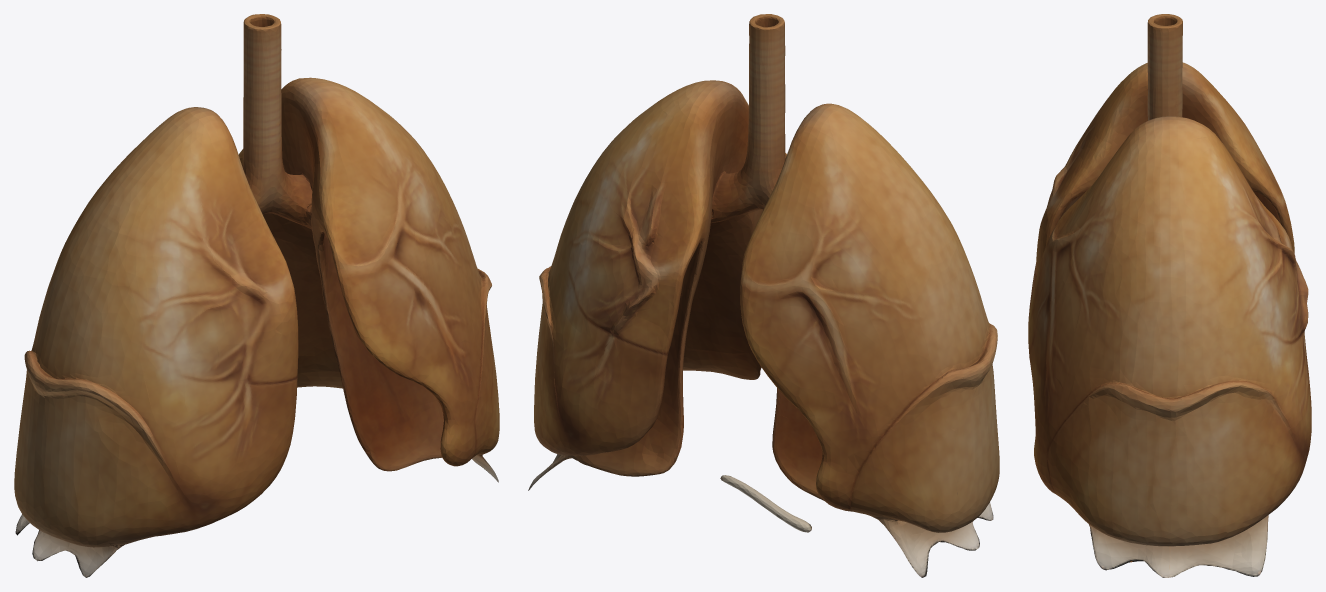
Rendered from lungs.glb.
3 renders of one model, left to right at view 1: azimuth 30°, elevation 25°; view 2: azimuth 150°, elevation 25°; view 3: azimuth 270°, elevation 25°, orthographic. The views are drawn at different scales.
Parts seen in each view (by area): view 1: world; view 2: world; view 3: world.
Boxes of the visible parts, x1,y1,x2,y2 form: world: [14, 14, 499, 577]; world: [528, 14, 999, 577]; world: [1028, 14, 1311, 577].
Bounding box in the file's own units: 0.9327 × 0.9939 × 0.5481.
Materials: 1 (1 with a texture image).
